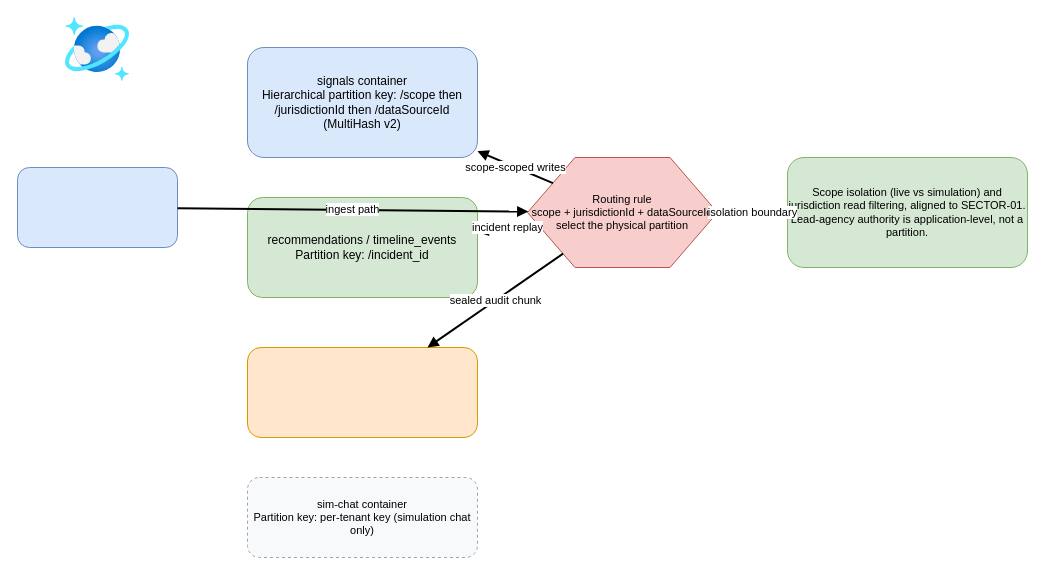
Some shapes in this 1045 by 575 pixel diagram are drawn without their labels. The box of each missing label's shape, as (x1, y1, x2, y2) in pixels:
audit_segments Partition key: /segment_id: (246, 346, 478, 438)
Azure Cosmos DB account: (65, 17, 129, 81)
Disaster-event document: (16, 166, 178, 248)
